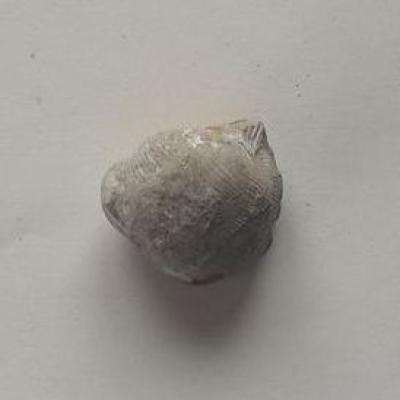natural_science_collection: (99, 118, 283, 286)
